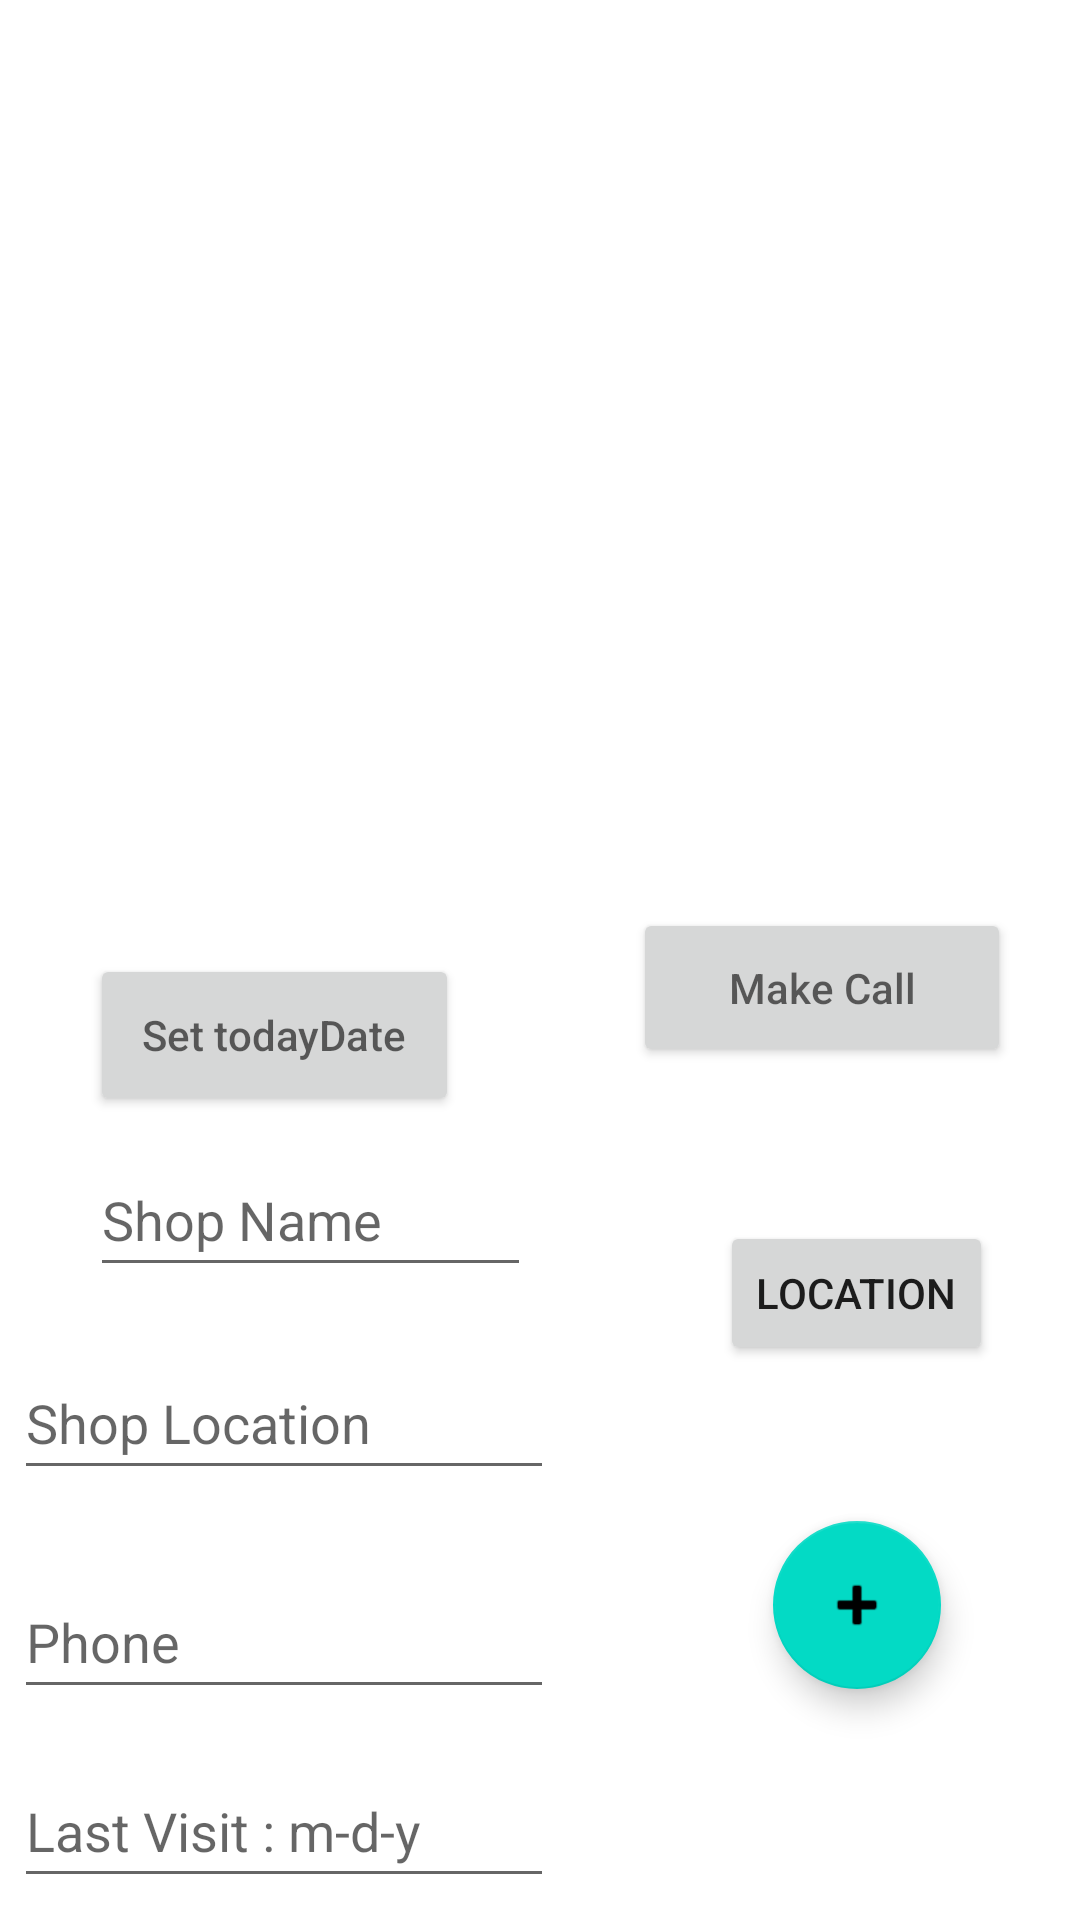

Named icons in this screenshot (1080px x 1920px) and their bounding boxes, {"x1": x1, "y1": y1, "x2": x2, "y2": y2}:
add: {"x1": 773, "y1": 1521, "x2": 941, "y2": 1689}
